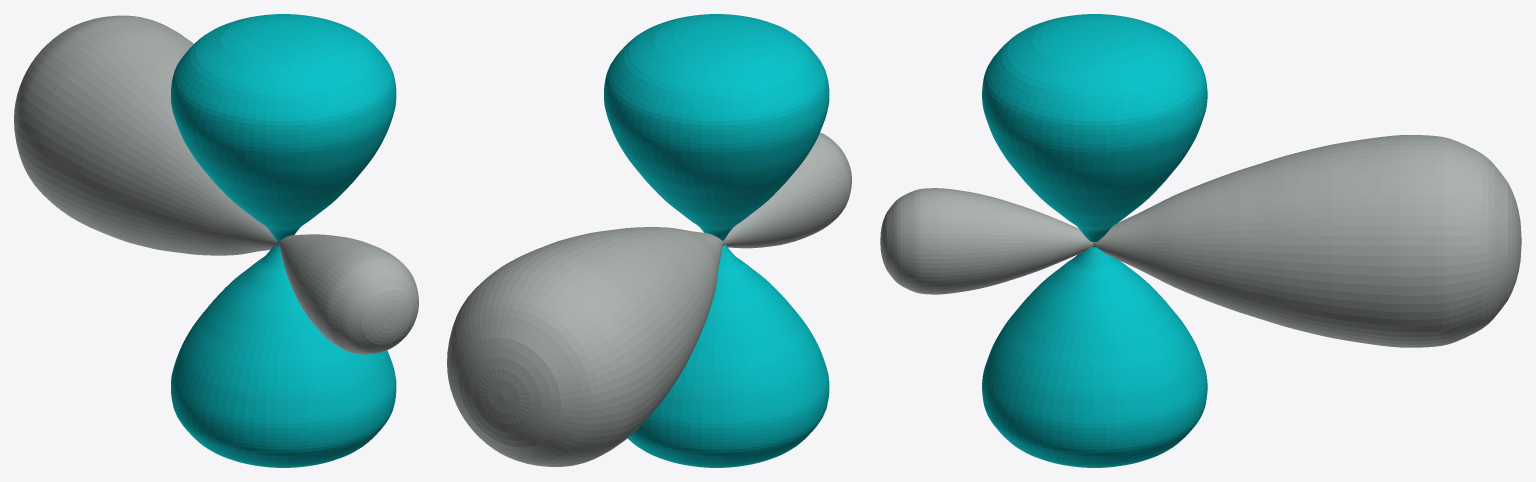
File: hibridacion.fbx
3 views of the same model, side by side, from view 1: azimuth 30°, elevation 25°; view 2: azimuth 150°, elevation 25°; view 3: azimuth 270°, elevation 25° (orthographic).
Parts seen in each view (by area): view 1: Cilindro; view 2: Cilindro; view 3: Cilindro.
Part boxes in pixels (left/top/right/bottom): Cilindro: left=14, top=14, right=418, bottom=467; Cilindro: left=447, top=14, right=851, bottom=467; Cilindro: left=880, top=14, right=1521, bottom=467.
Size of the model in its own units: 167 by 341 by 475.
